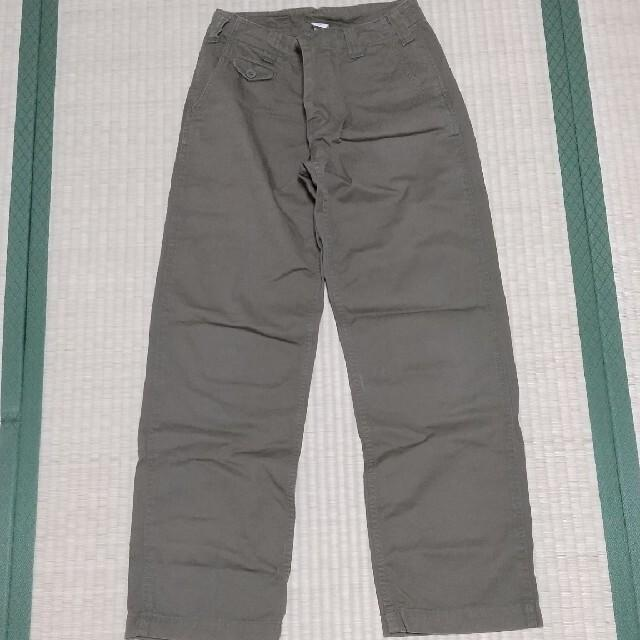long-pants: (121, 0, 544, 640)
